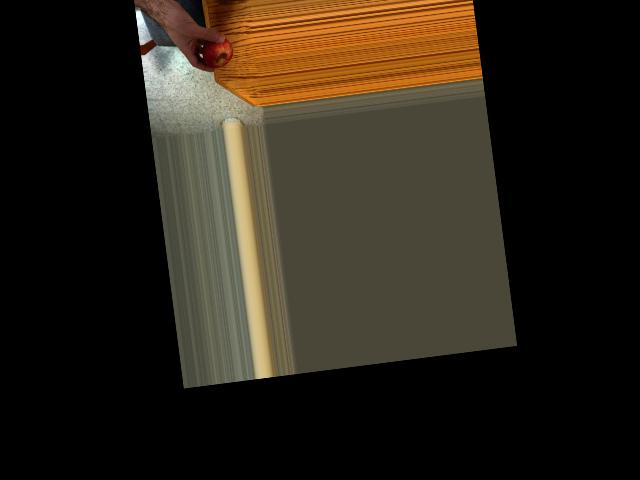apple: (199, 34, 233, 70)
